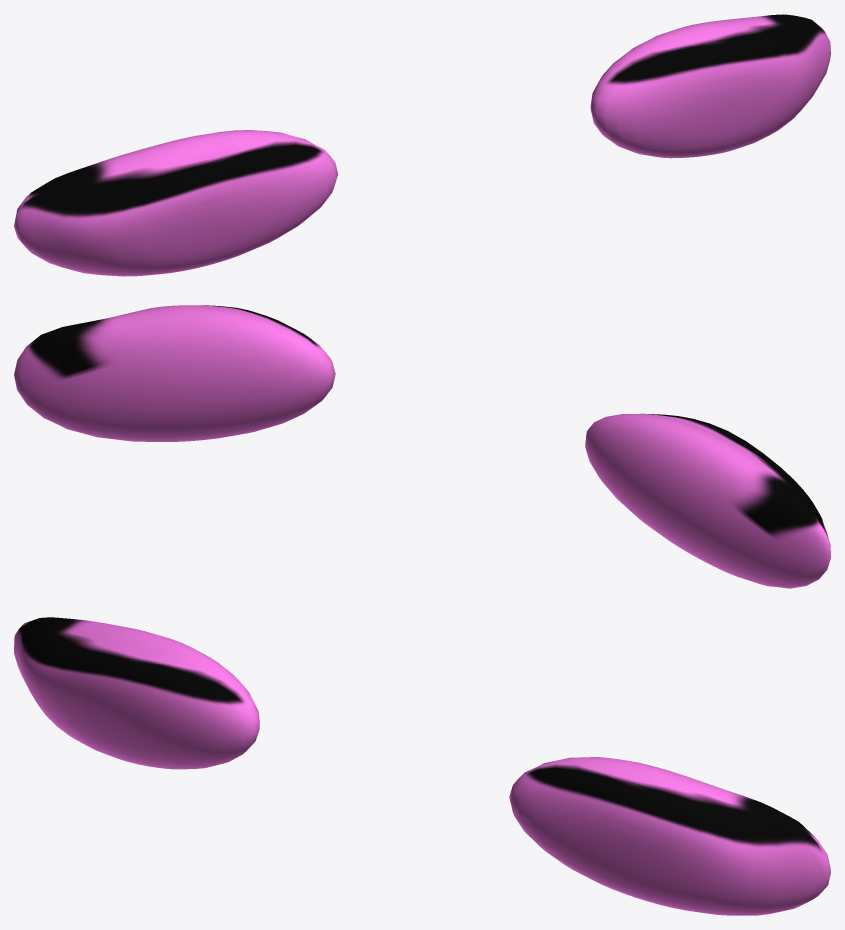
The model's file is Zombie-Pink.glb.
The picture shows the model from 3 angles, top to bottom: view 1: azimuth 30°, elevation 25°; view 2: azimuth 150°, elevation 25°; view 3: azimuth 330°, elevation 25°; orthographic projection.
Parts seen in each view (by area): view 1: Sphere.002; view 2: Sphere.002; view 3: Sphere.002.
Part boxes in pixels (x1=…): Sphere.002: x1=14, y1=14, x2=830, y2=276; Sphere.002: x1=14, y1=305, x2=830, y2=588; Sphere.002: x1=14, y1=617, x2=830, y2=915.
Bounding box in the file's own units: 0.3777 × 0.0623 × 0.0485.
1 material, 1 textured.
